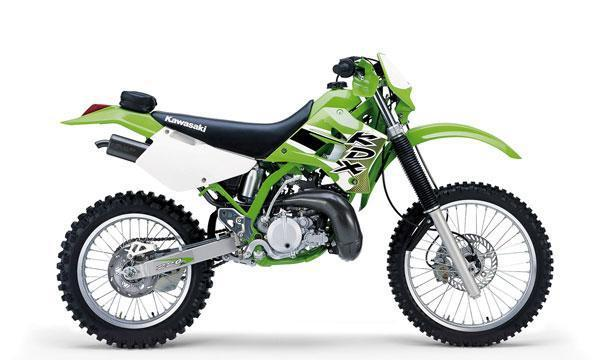motorcycle: (47, 37, 562, 356)
